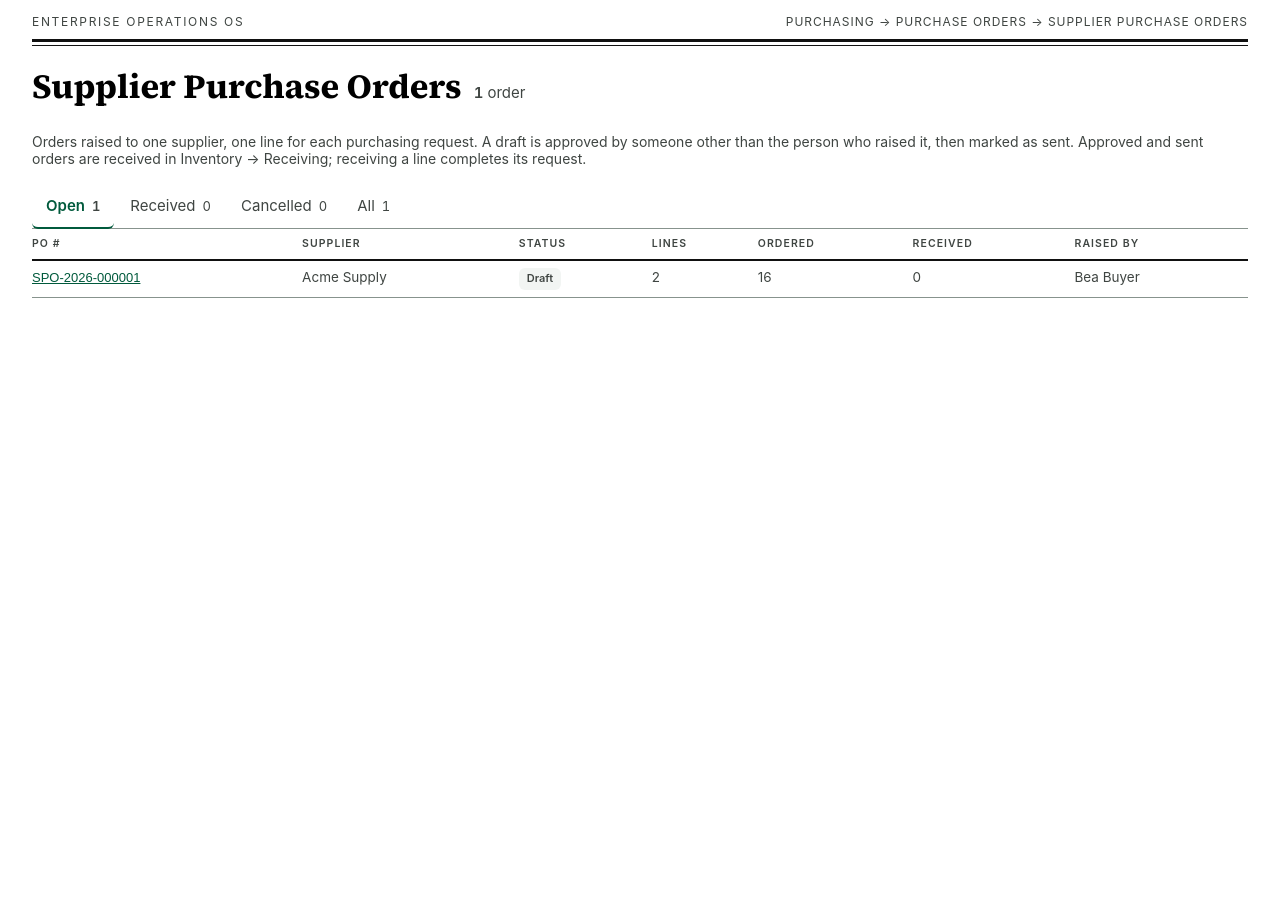
Test: controls are offered only to capability holders, narrowed by the server's own flags › Cancel needs a stated reason, then sends it
The width and height of the screenshot is (1280, 900).
Click the button "SPO-2026-000001" at {"x": 86, "y": 278}, box left=32, top=270, right=140, bottom=285
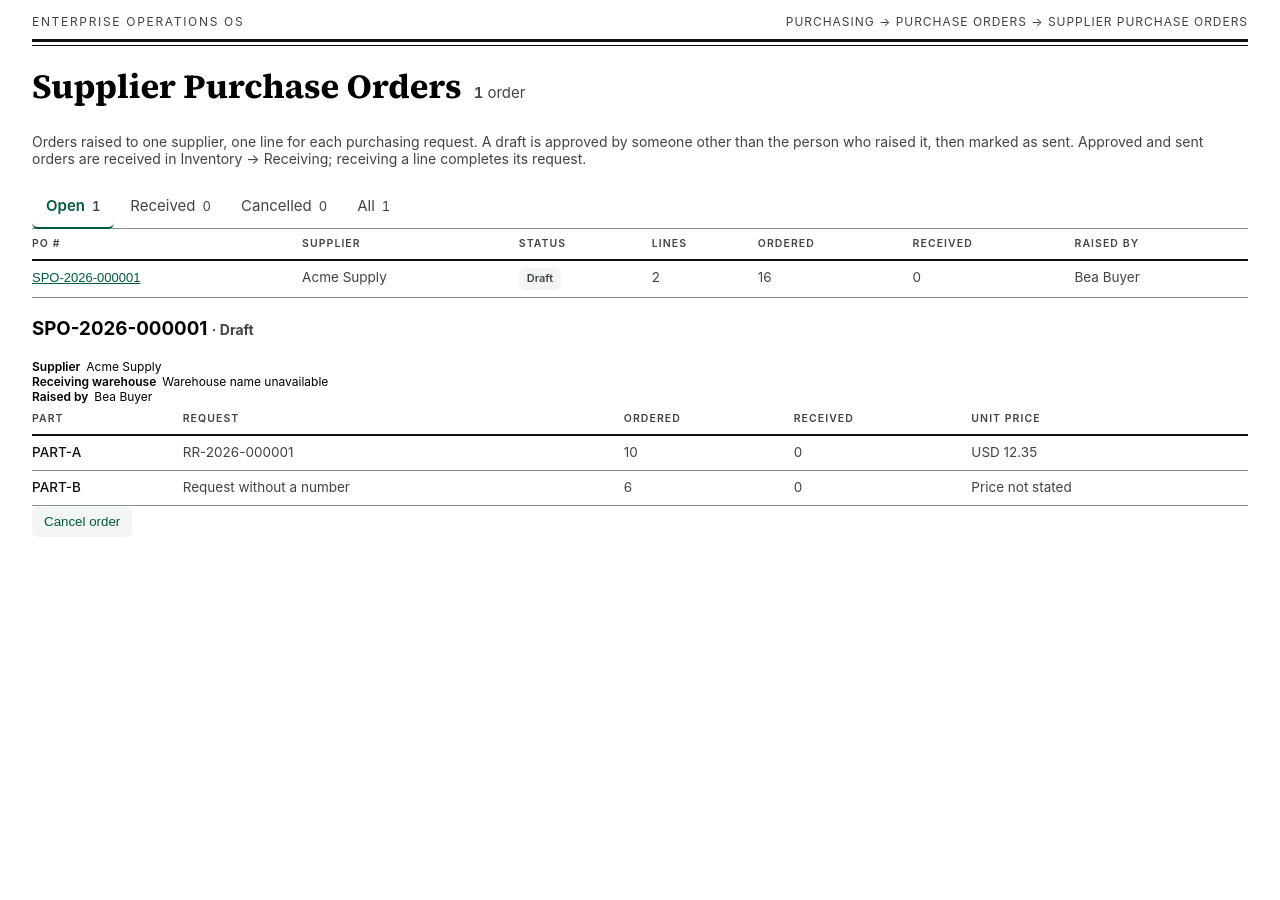
Check: the element named "Order SPO-2026-000001" is shown, box left=32, top=298, right=1248, bottom=537
Click the button "Cancel order" at {"x": 82, "y": 521}, box left=32, top=506, right=132, bottom=537
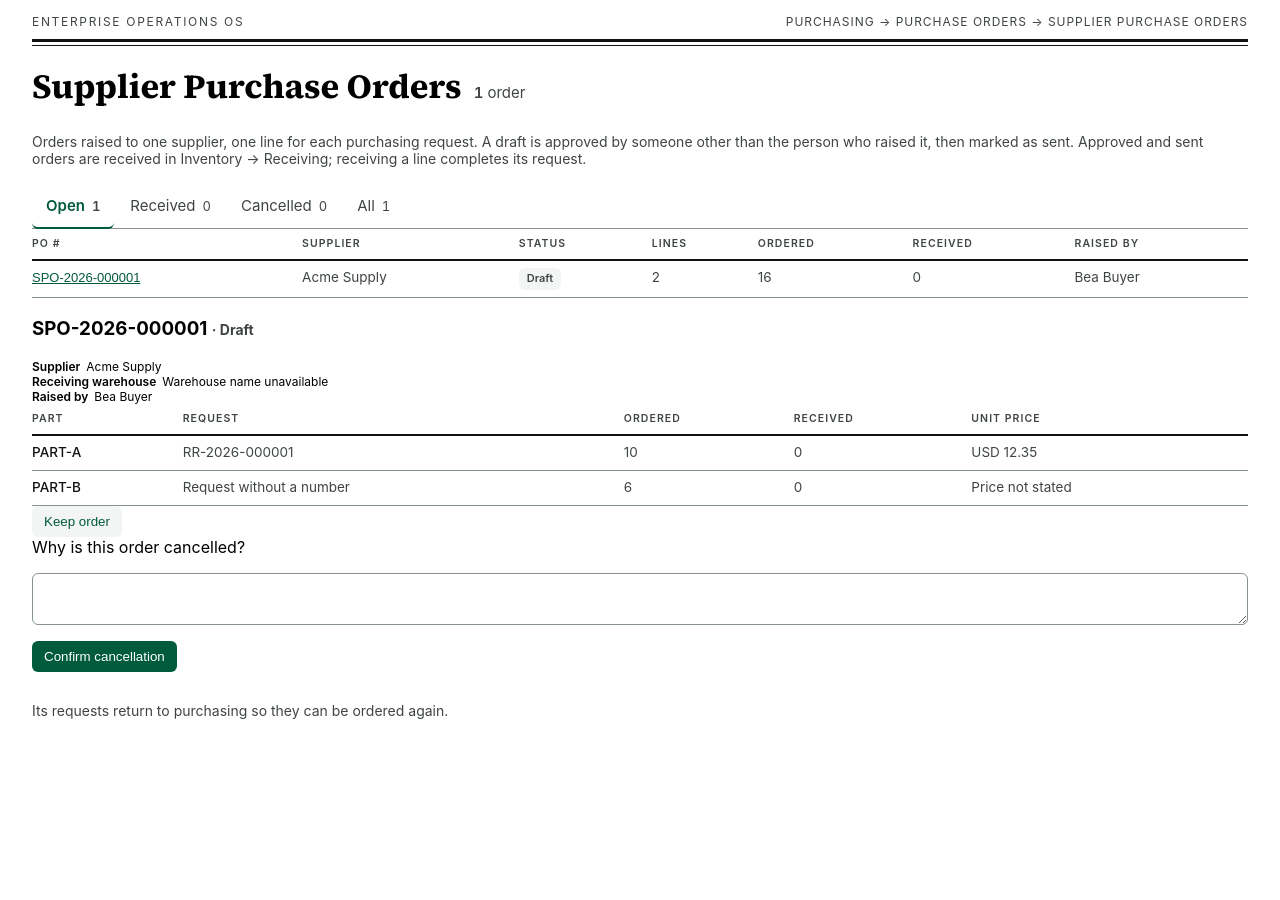
Check: the button "Confirm cancellation" is disabled, box left=32, top=641, right=177, bottom=672
Type "supplier withdrew the quote" into the text box labelled "Why is this order cancelled?" at {"x": 640, "y": 599}, box left=32, top=573, right=1248, bottom=625
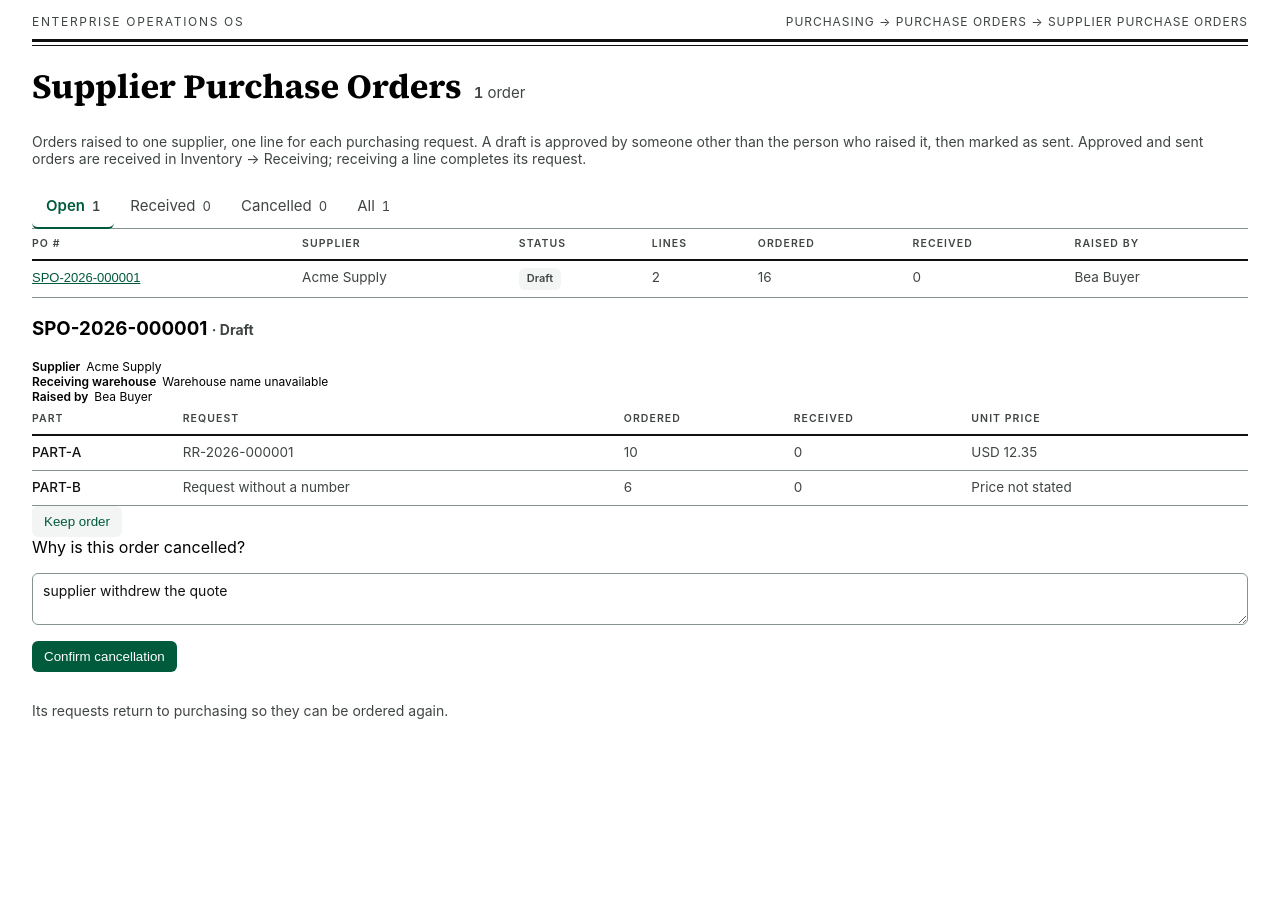
Click the button "Confirm cancellation" at {"x": 104, "y": 656}, box left=32, top=641, right=177, bottom=672
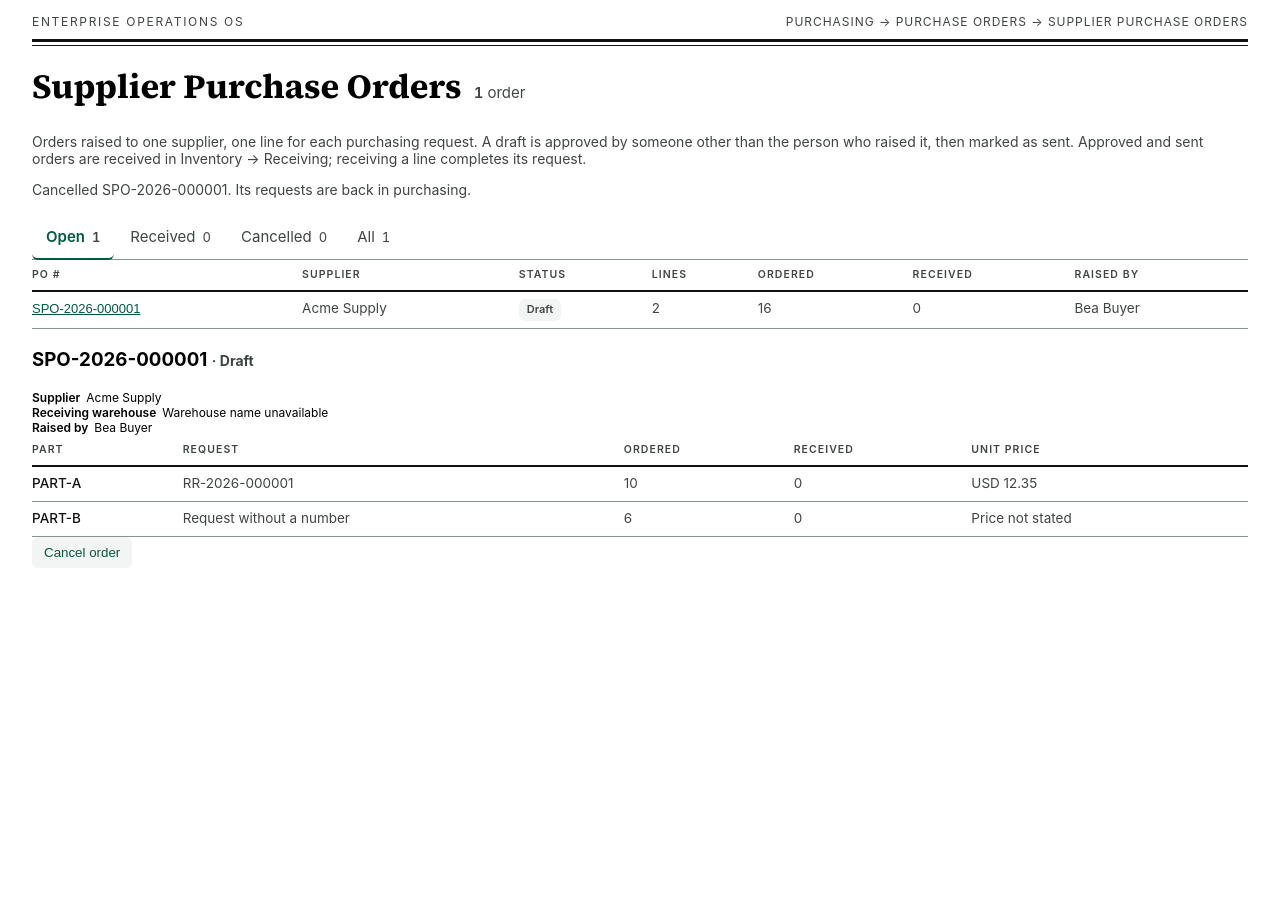
Check: the text "Cancelled SPO-2026-000001. Its requests are back in purchasing." is shown, box left=32, top=181, right=471, bottom=198
